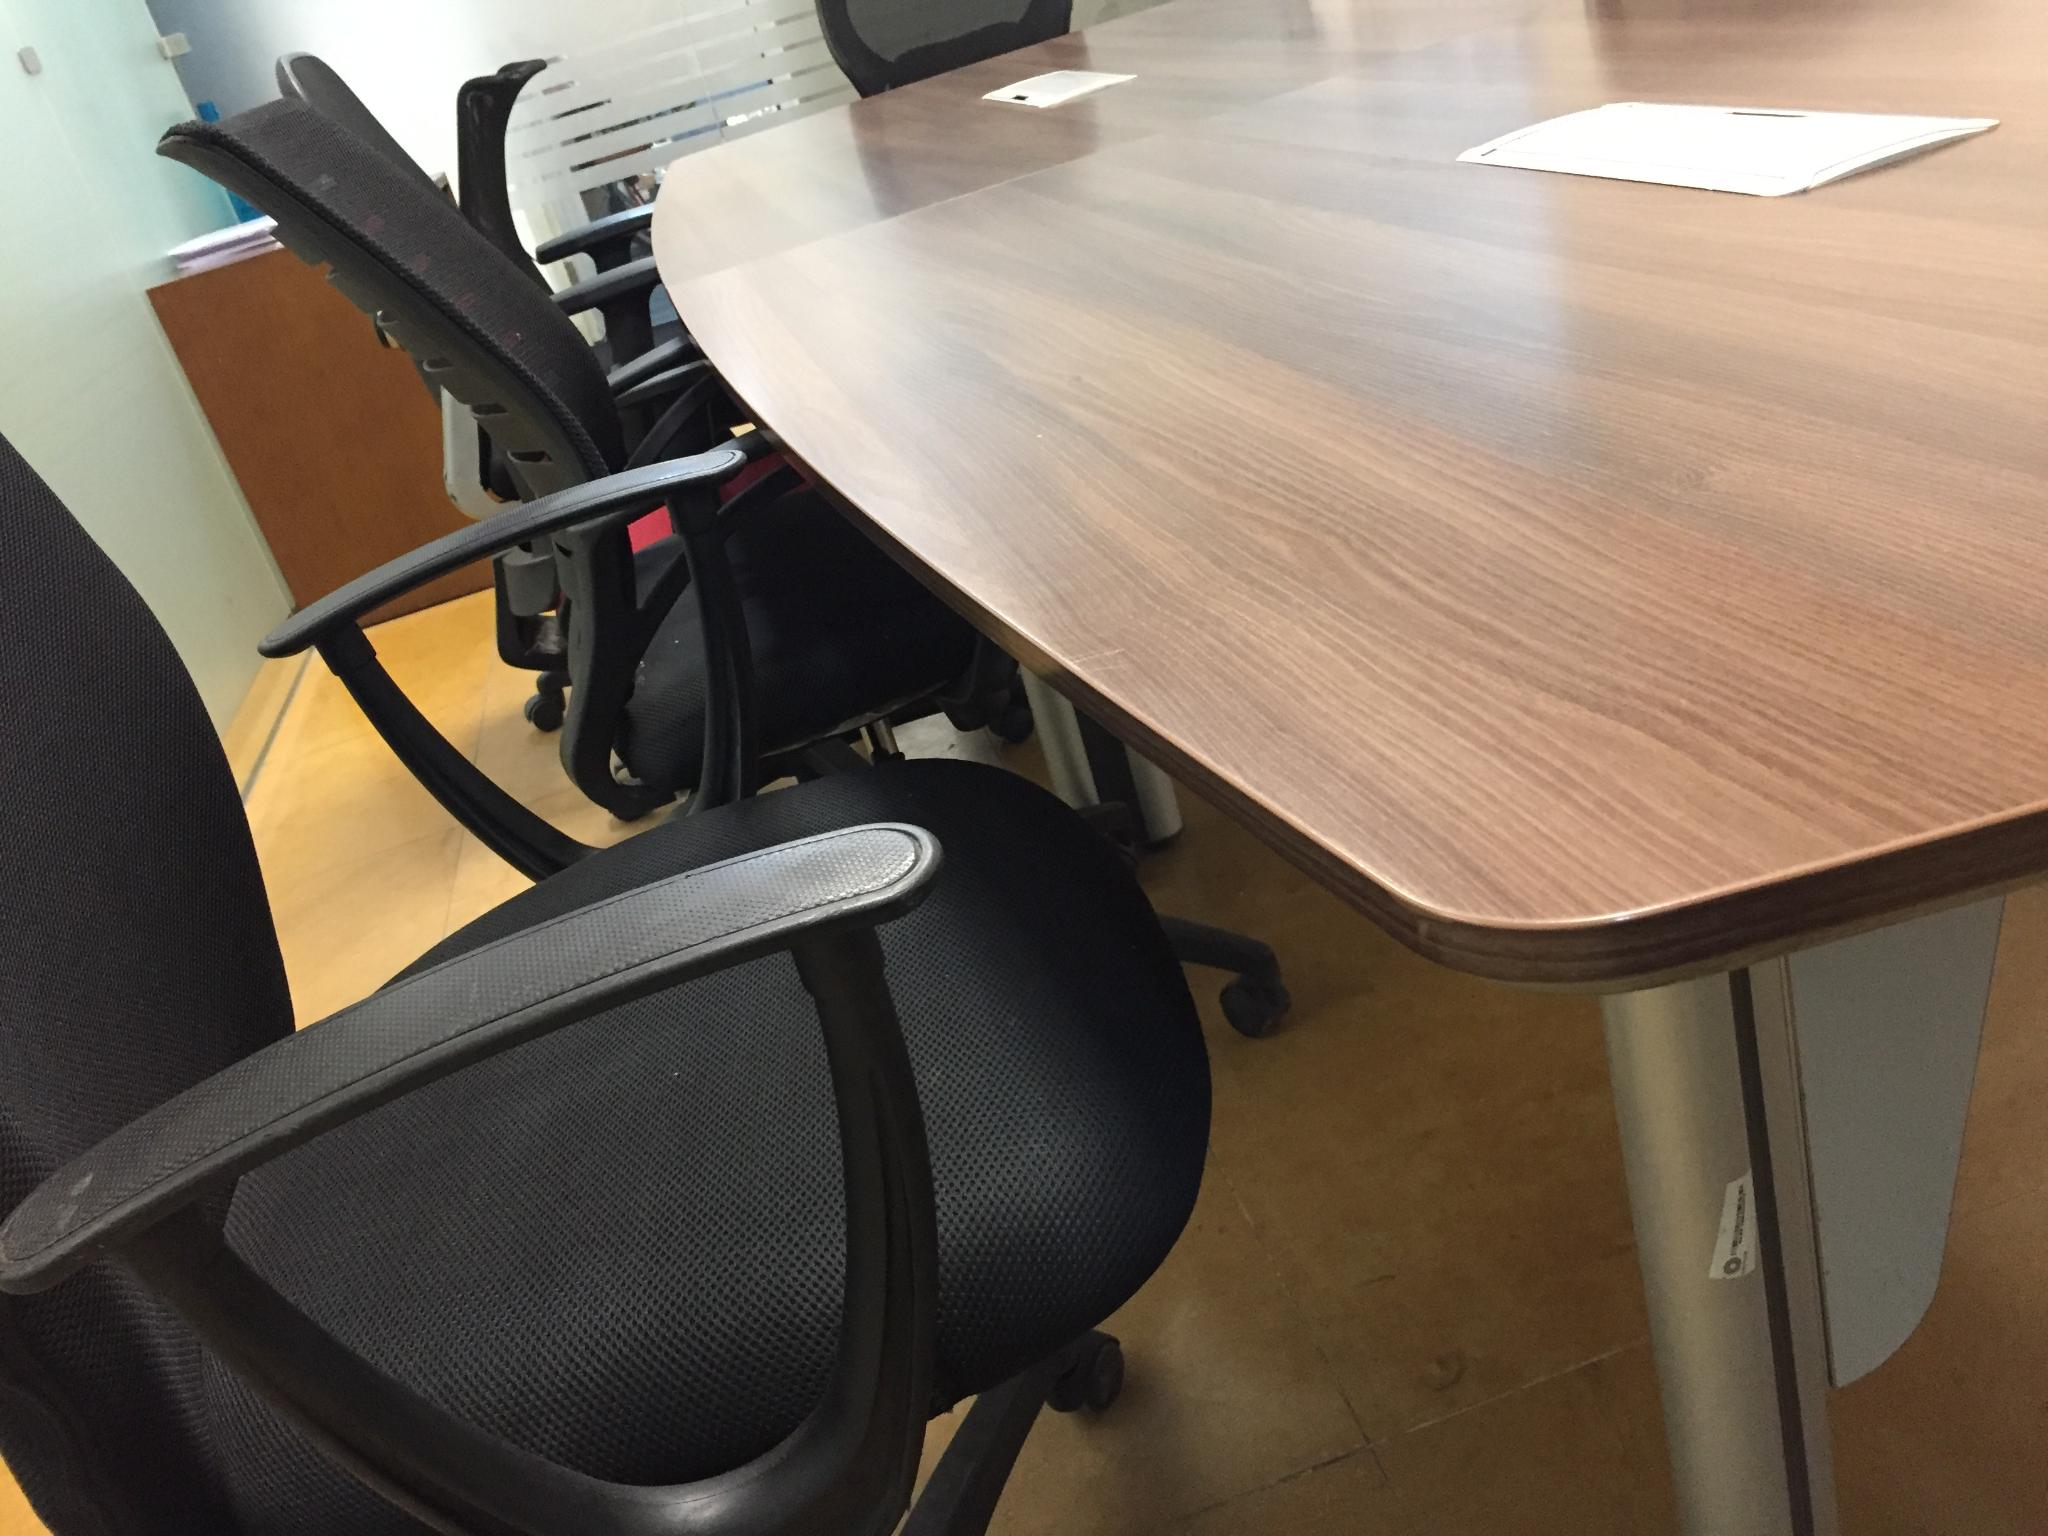chair: (0, 428, 1221, 1534), (153, 50, 1290, 1041), (443, 52, 789, 499), (810, 0, 1080, 94)
